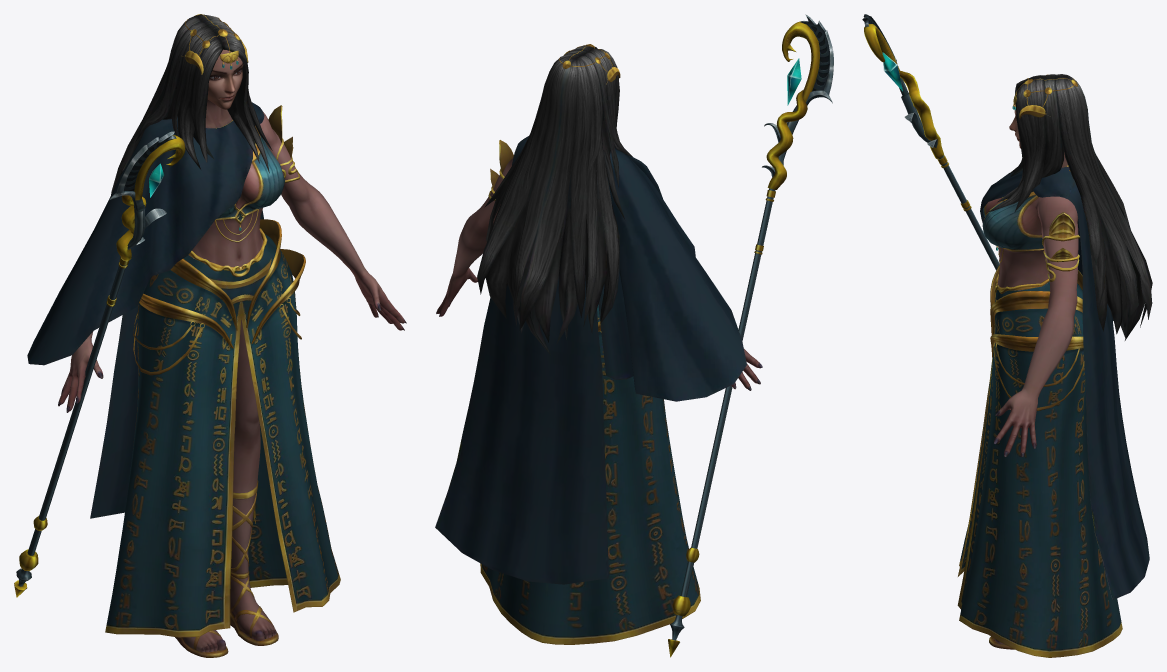
File: zarah_nightbane.glb
The picture shows the model from 3 angles, left to right: view 1: azimuth 30°, elevation 25°; view 2: azimuth 150°, elevation 25°; view 3: azimuth 270°, elevation 25°; orthographic projection. The views are drawn at different scales.
Visible parts, largest first — view 1: Zarah_nightbane_body, Zarah_nightbane_weapon; view 2: Zarah_nightbane_body, Zarah_nightbane_weapon; view 3: Zarah_nightbane_body, Zarah_nightbane_weapon.
Part boxes in pixels (x1,y1,x2,y2): Zarah_nightbane_body: (27, 14, 406, 657); Zarah_nightbane_weapon: (14, 131, 185, 597); Zarah_nightbane_body: (435, 44, 762, 644); Zarah_nightbane_weapon: (668, 14, 833, 657); Zarah_nightbane_body: (957, 74, 1152, 657); Zarah_nightbane_weapon: (862, 14, 999, 270).
Bounding box in the file's own units: 1.09 × 1.78 × 0.8496.
2 materials, 2 textured.
